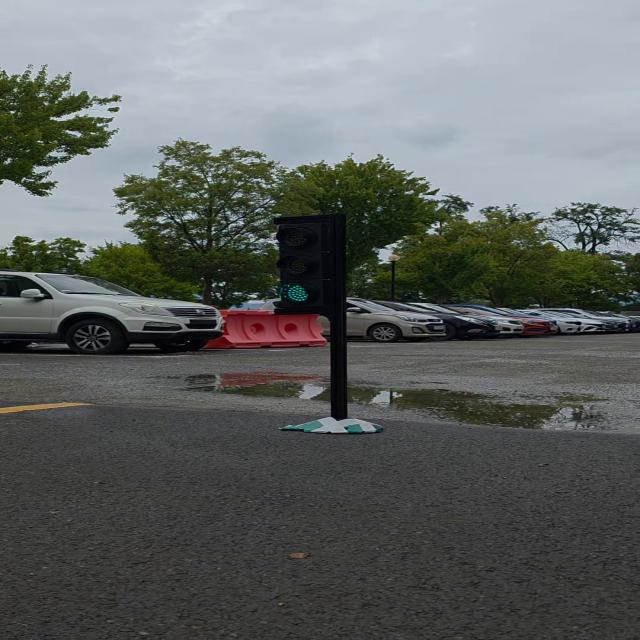green: (276, 216, 345, 312)
